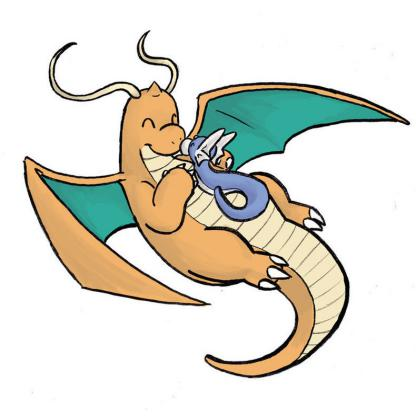Dragonite: (39, 30, 416, 402)
